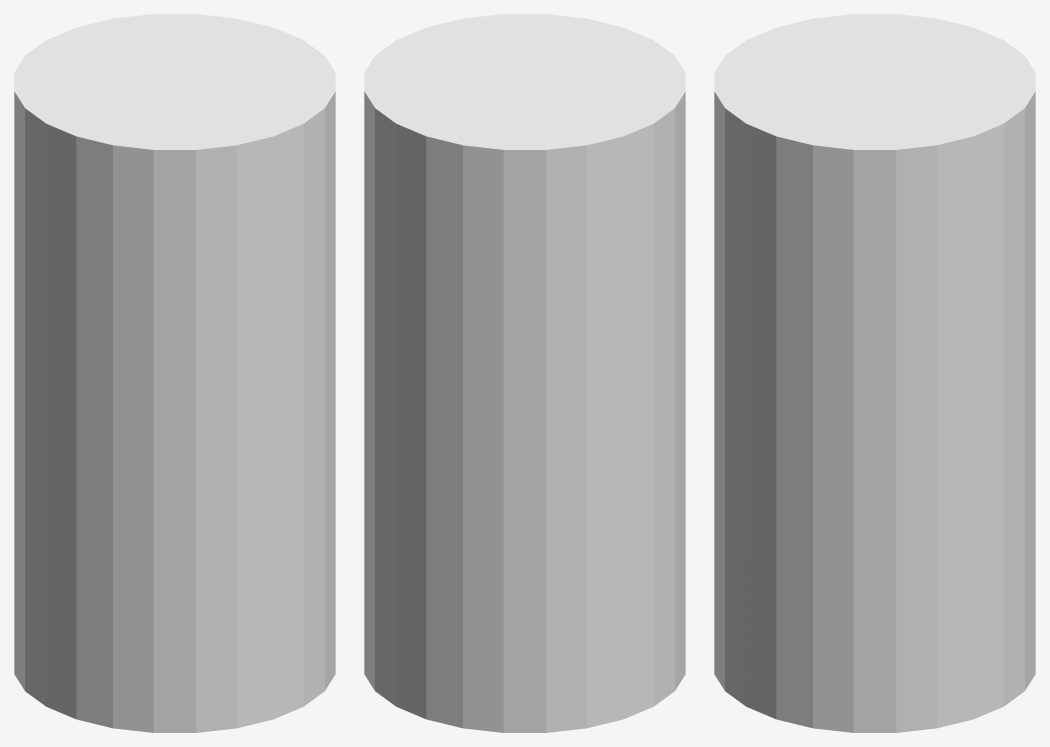
File: tardisheart.obj
3 renders of one model, left to right at view 1: azimuth 30°, elevation 25°; view 2: azimuth 150°, elevation 25°; view 3: azimuth 270°, elevation 25°, orthographic.
Parts seen in each view (by area): view 1: ProtectiveGlass; view 2: ProtectiveGlass; view 3: ProtectiveGlass.
Boxes of the visible parts, x1=… form: ProtectiveGlass: x1=14, y1=14, x2=335, y2=732; ProtectiveGlass: x1=364, y1=14, x2=685, y2=732; ProtectiveGlass: x1=714, y1=14, x2=1035, y2=732.
Size of the model in its own units: 1 by 2 by 1.
